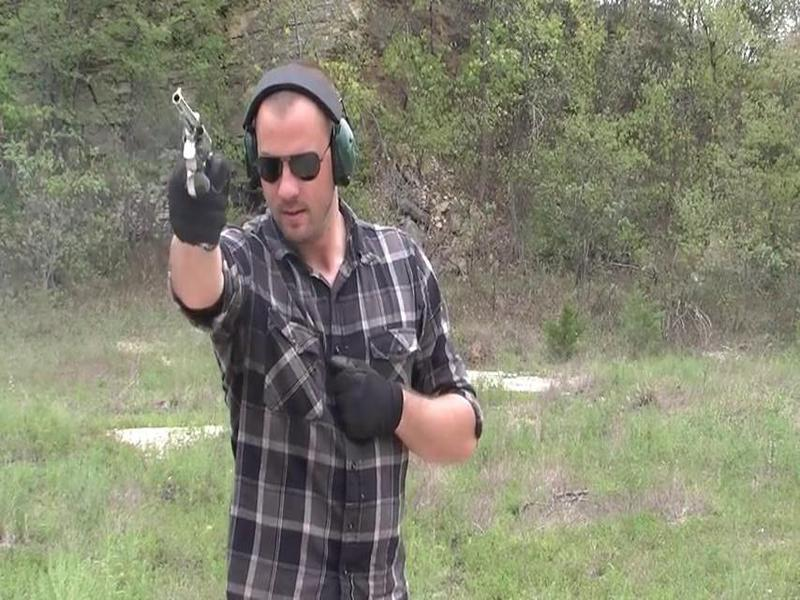Revolver: (162, 83, 220, 204)
